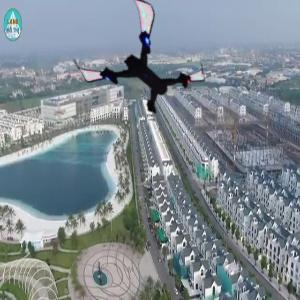drone: (81, 11, 194, 124)
